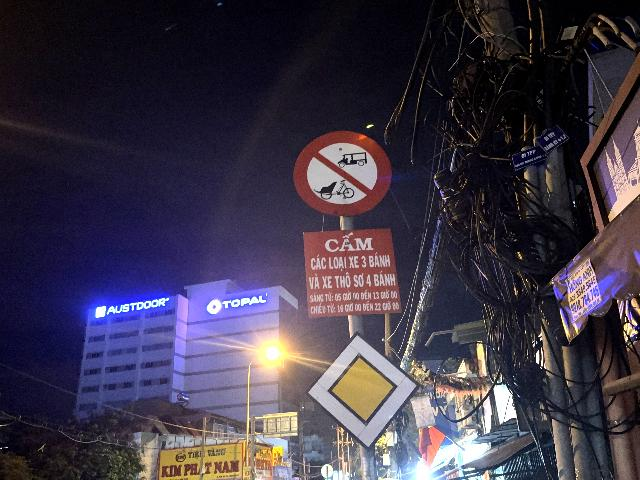bat-dau-duong-uu-tien: (306, 331, 419, 452)
cam-xe-3-banh-xe-tho-so-4-banh: (292, 130, 392, 217)
